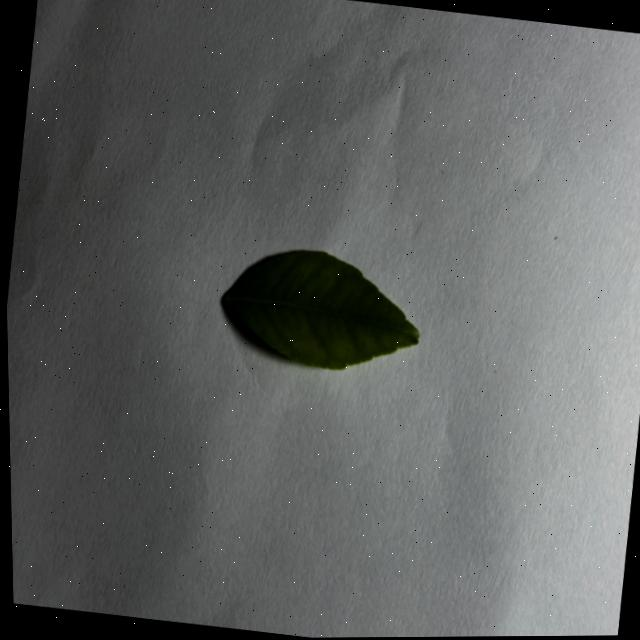greening: (225, 250, 418, 368)
